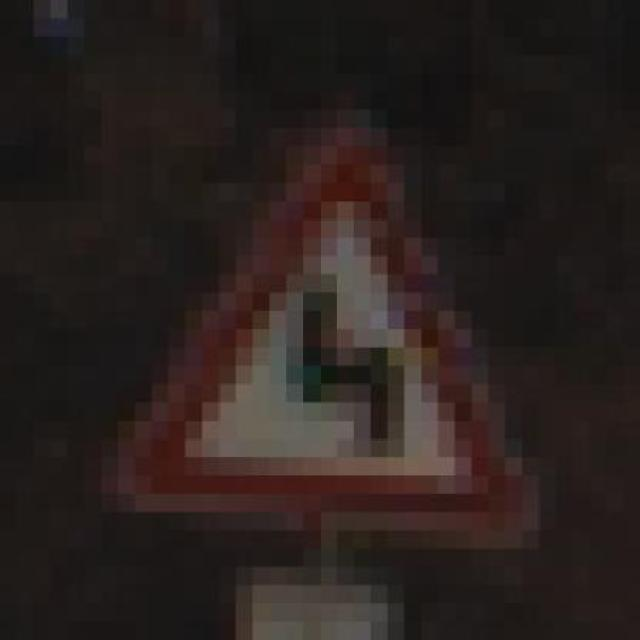Left Zig Zag Traffic: (84, 73, 556, 567)
